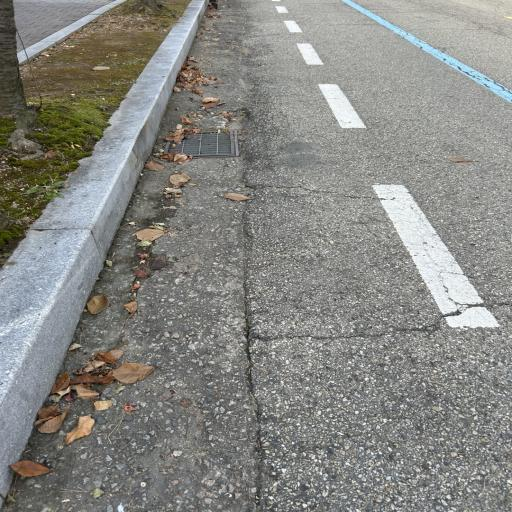debris: (167, 129, 201, 146), (161, 152, 192, 164)
drain: (163, 129, 239, 156)
